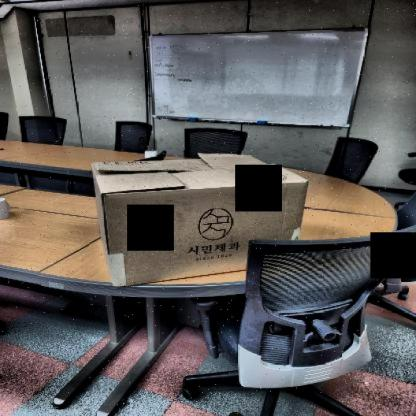box: (90, 150, 321, 296)
